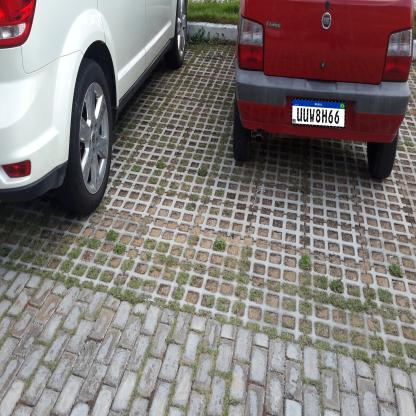PlacaM: (291, 98, 346, 128)
